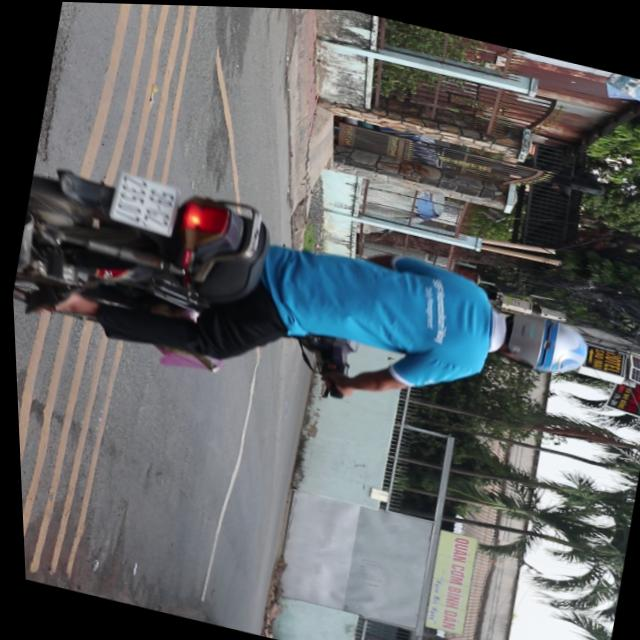helmet: (482, 297, 592, 379)
licenseplate: (5, 141, 608, 461)
nohelmet: (104, 169, 181, 236)
